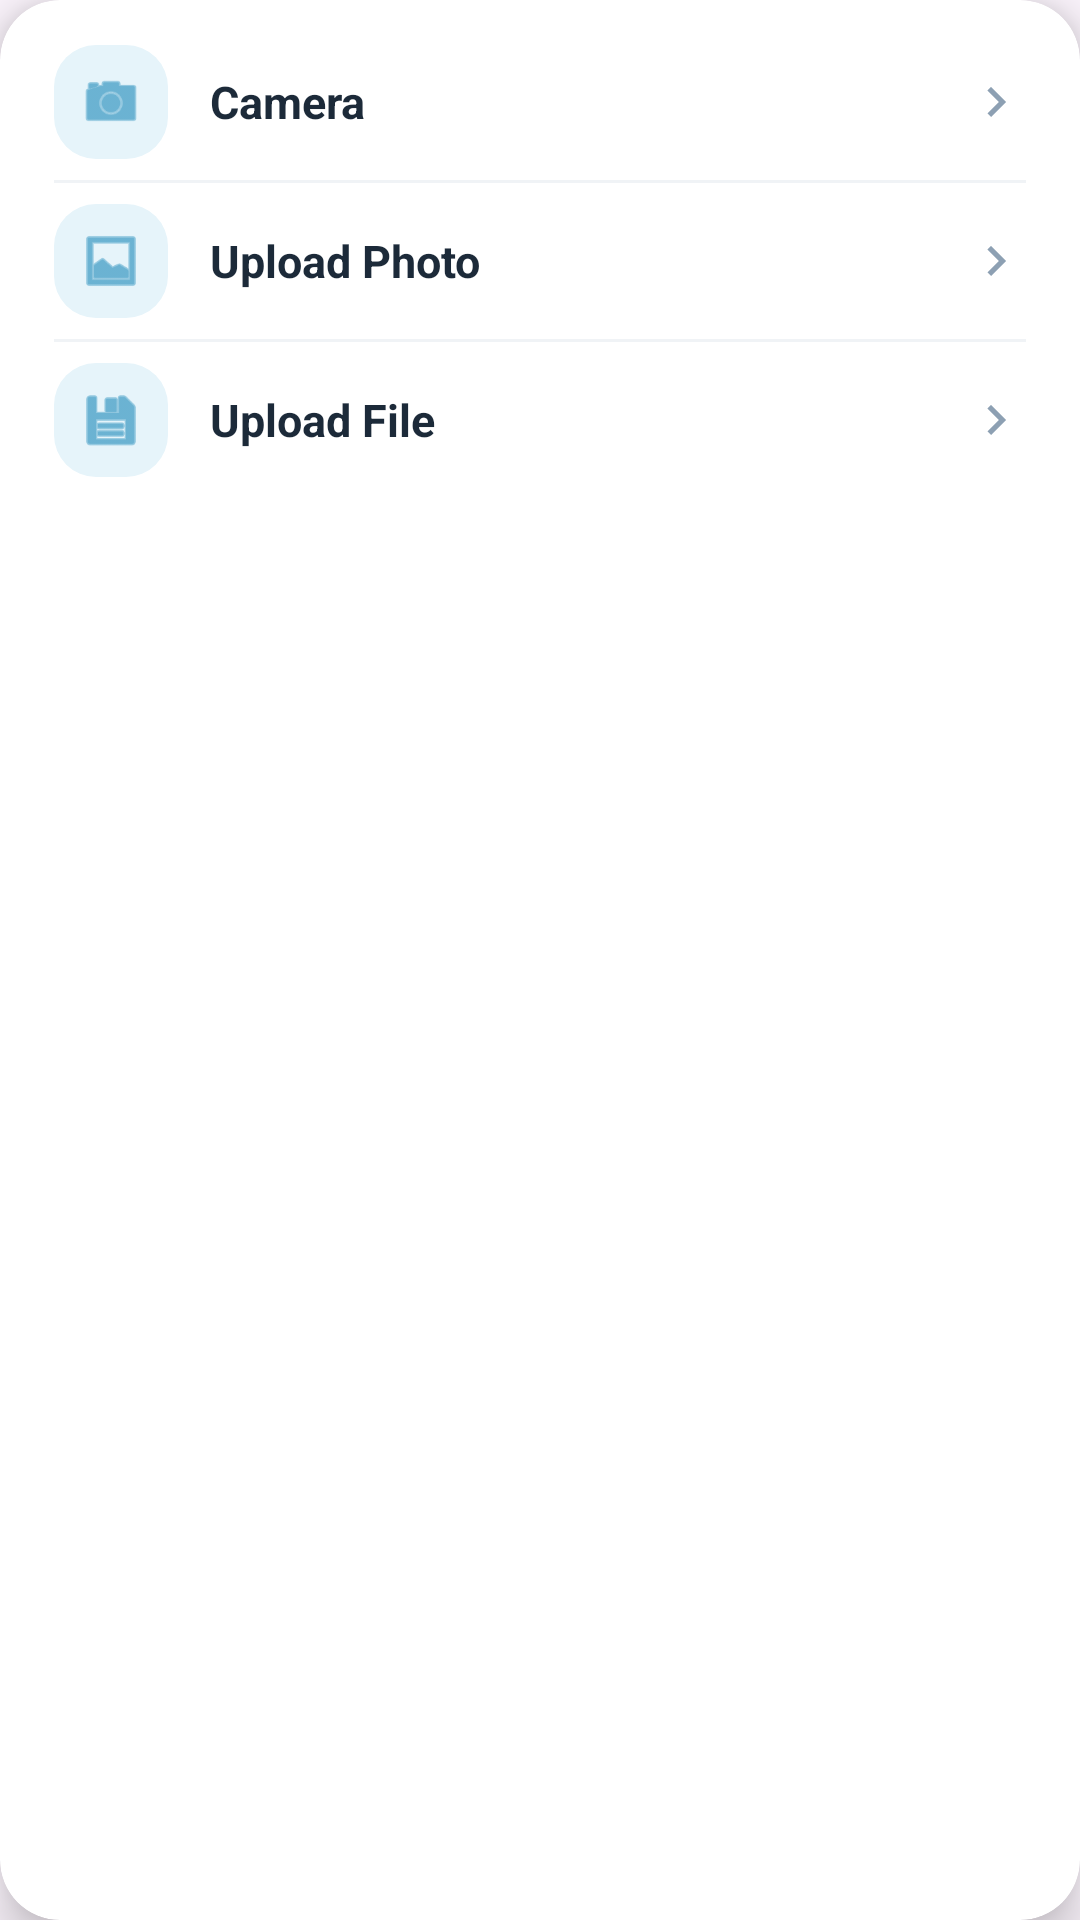

Named icons in this screenshot (1080×1920) and their bounding boxes, (x1, y1, x2, y2):
chevron right: (987, 87, 1006, 117), (987, 246, 1006, 276), (987, 405, 1006, 435)
